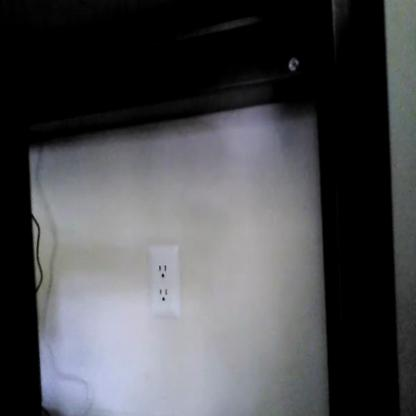OUTLET: (148, 243, 180, 321)
